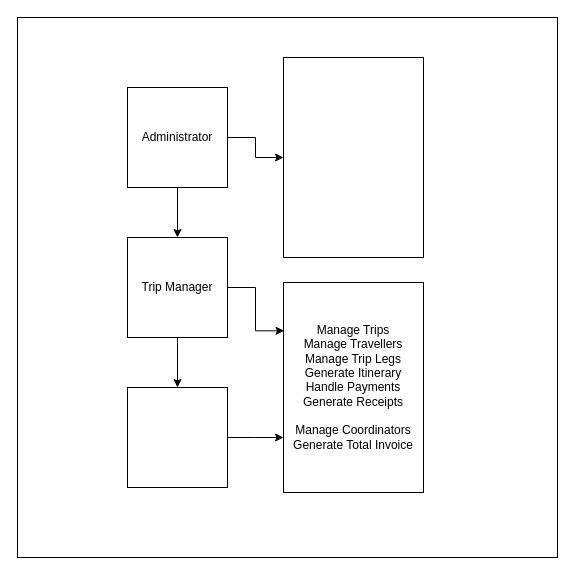
Image size: 575x575. Some labels were removed from this diagram. The centre of each missing label's shape, as x and y in pixels:
"Manage Managers Manage All Invoice Manage All Payments Generate Reports" belongs at (x=353, y=157).
"Trip Coordinator" belongs at (x=177, y=437).
